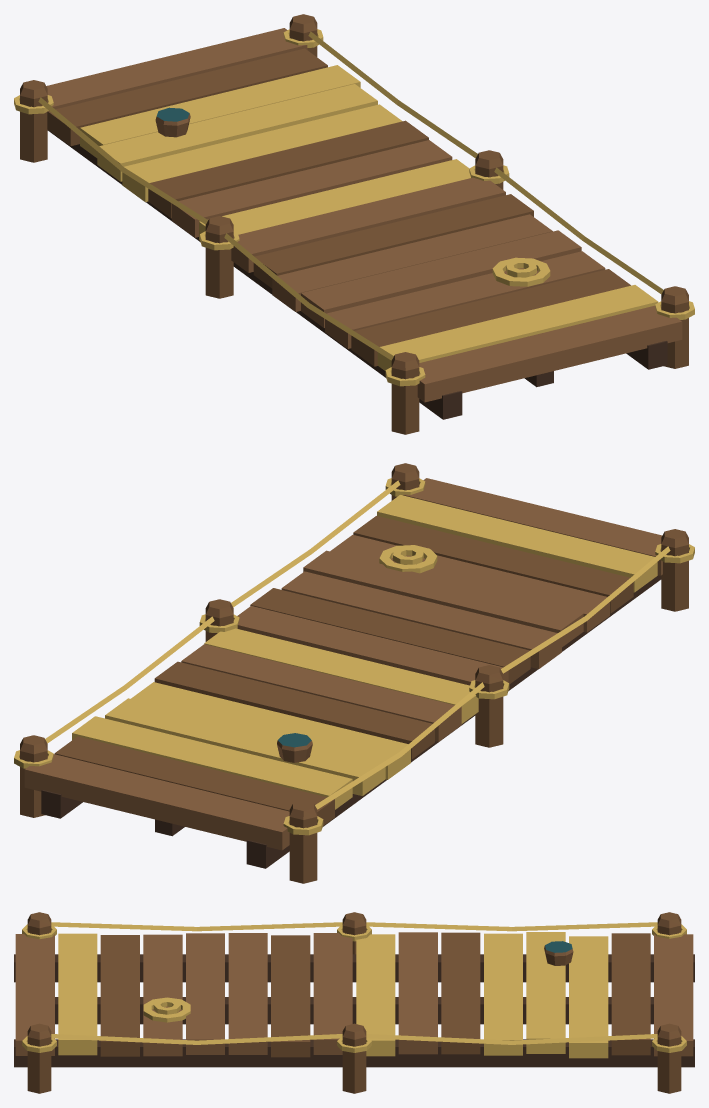
The model's file is FishingPier.obj.
3 views of the same model, one above another, from view 1: azimuth 30°, elevation 25°; view 2: azimuth 150°, elevation 25°; view 3: azimuth 270°, elevation 25° (orthographic). The views are drawn at different scales.
Size of the model in its own units: 3.51 by 0.78 by 8.
